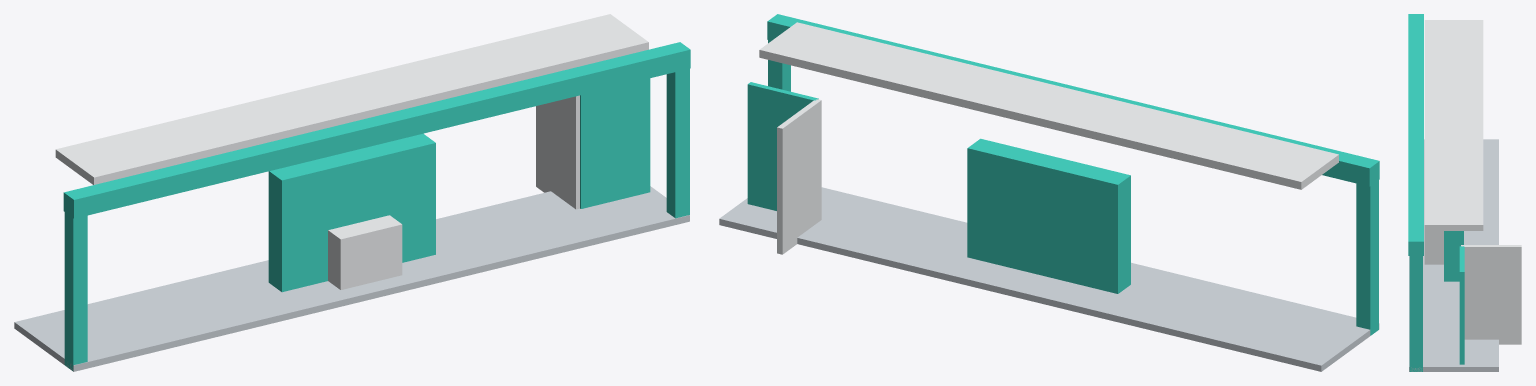
3 renders of one model, left to right at view 1: azimuth 30°, elevation 25°; view 2: azimuth 150°, elevation 25°; view 3: azimuth 270°, elevation 25°, orthographic. The views are drawn at different scales.
Parts seen in each view (by area): view 1: Exhibition Booth Concept; view 2: Exhibition Booth Concept; view 3: Exhibition Booth Concept.
Boxes of the visible parts, left/top/right/bottom form: Exhibition Booth Concept: left=14, top=14, right=690, bottom=371; Exhibition Booth Concept: left=719, top=14, right=1379, bottom=371; Exhibition Booth Concept: left=1408, top=14, right=1521, bottom=371.
Size of the model in its own units: 12 by 3.34 by 2.52.
